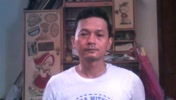hand: (17, 13, 99, 90)
